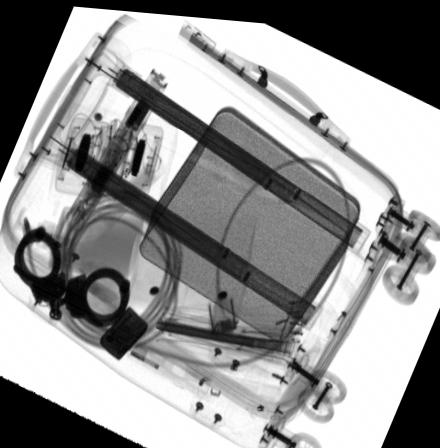Baton: (65, 67, 168, 231)
HandCuffs: (14, 226, 131, 329)
Lighter: (98, 303, 147, 360)
